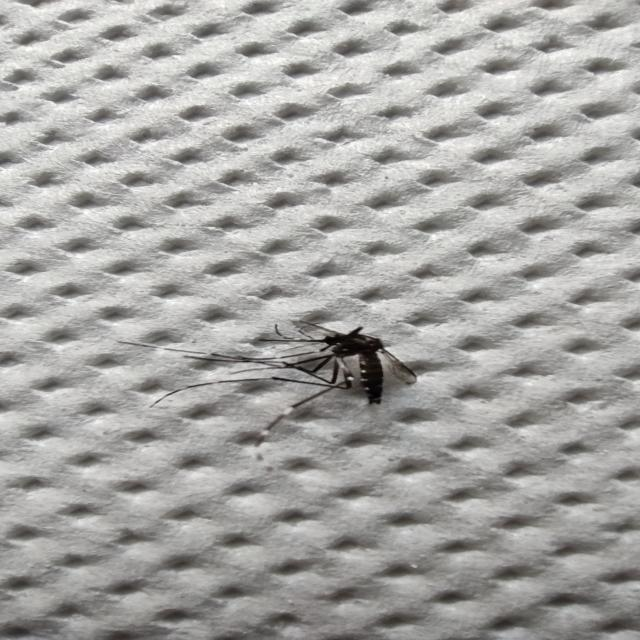albopictus: (124, 309, 424, 447)
